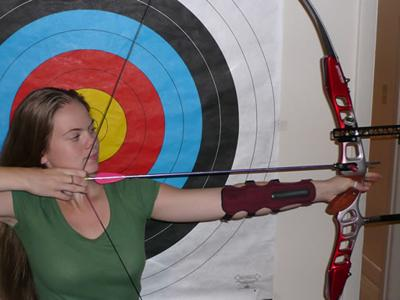person: (2, 86, 381, 300)
